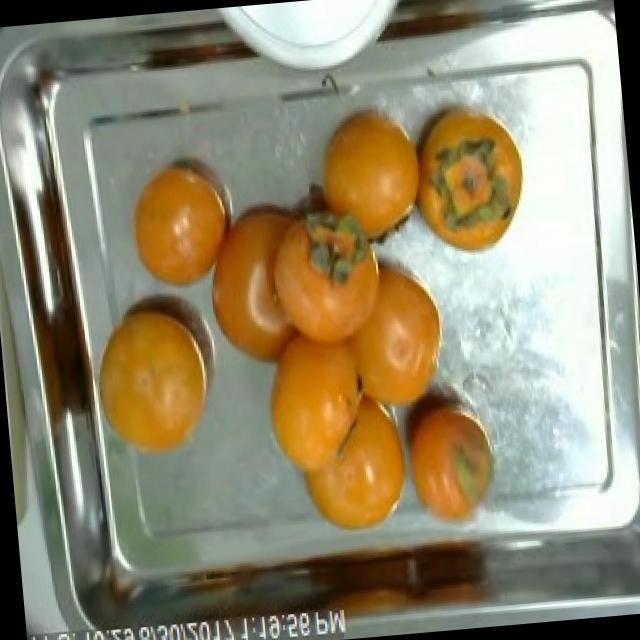Fruit: (280, 82, 442, 265), (86, 279, 232, 476), (329, 227, 457, 430), (112, 140, 252, 306), (406, 98, 539, 266), (284, 382, 416, 548), (392, 367, 514, 544)
